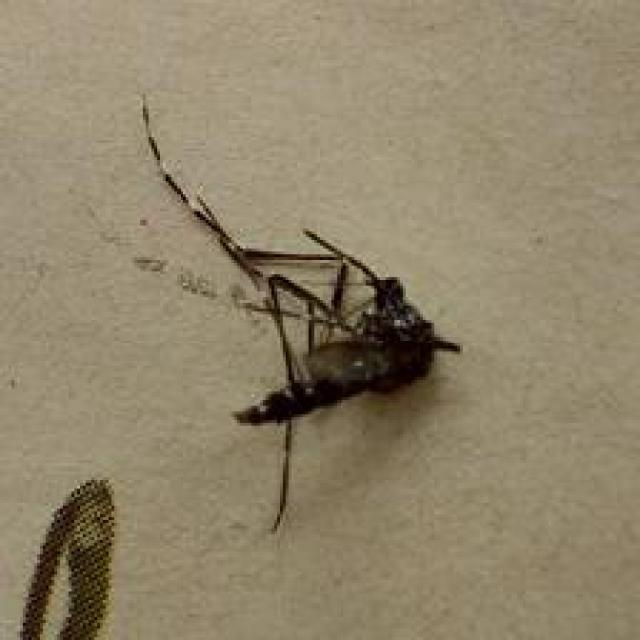Aedes albopictus: (137, 92, 463, 534)
